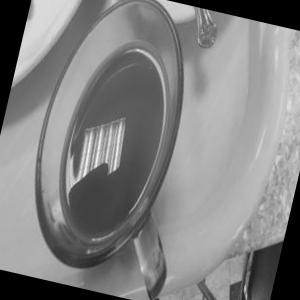coffee: (0, 0, 250, 300)
